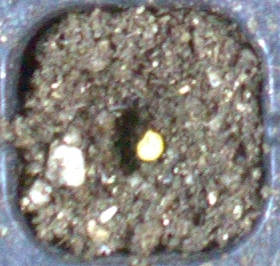pepper seed: (53, 47, 216, 208)
